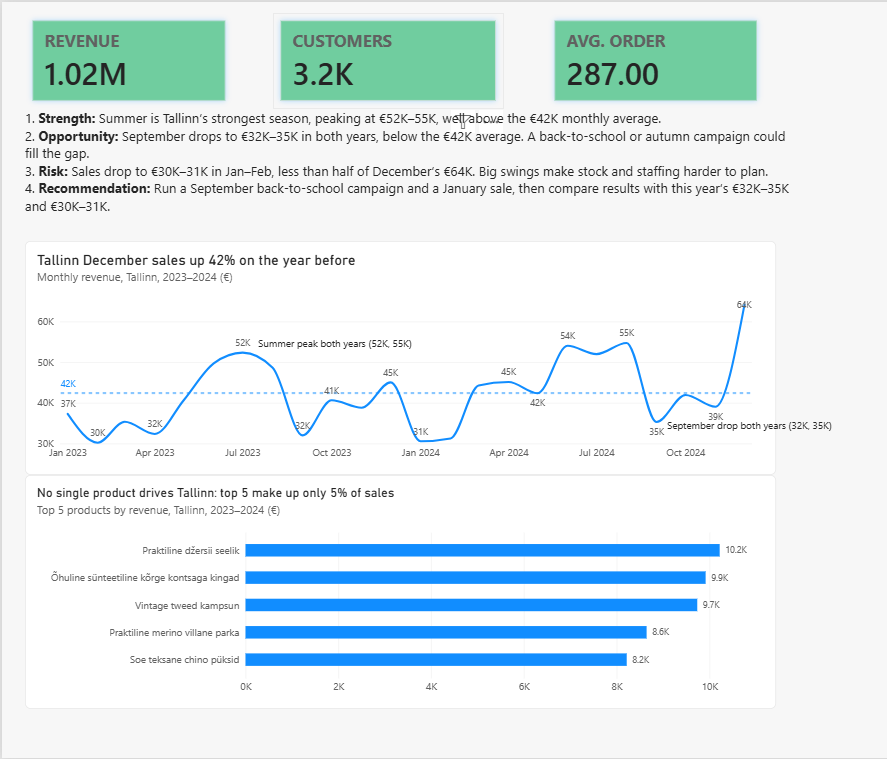

The page's visual inventory and layout, read from the dashboard file:
{"tool":"powerbi","page":{"name":"Page 1","canvas":[1920,1080],"ordinal":0},"visuals":[{"type":"barChart","title":"Sales by store","fields":{"Category":["public sales.store_location"],"Y":["Sum(public sales.total_price)"]},"box":[548,704.9,583.9,329.9],"z":0},{"type":"barChart","title":"Stock by category","fields":{"Category":["public products.category"],"Y":["Sum(public inventory.quantity_available)"]},"box":[0,704.7,531.1,329.7],"z":1000},{"type":"shape","box":[0,0,1131.9,126.4],"z":2000},{"type":"cardVisual","fields":{"Data":["Sum(public sales.total_price)"]},"box":[23.9,138.3,297.9,137],"z":3000},{"type":"cardVisual","fields":{"Data":["CountNonNull(public sales.customer_id)"]},"box":[408.3,138.3,329.9,137],"z":4000},{"type":"cardVisual","fields":{"Data":["Avg(public sales.total_price)"]},"box":[820.6,138.3,311.2,137],"z":4001},{"type":"lineChart","fields":{"Category":["public sales.sale_date.Variation.Date Hierarchy.Year","public sales.sale_date.Variation.Date Hierarchy.Quarter","public sales.sale_date.Variation.Date Hierarchy.Month","public sales.sale_date.Variation.Date Hierarchy.Day"],"Y":["Sum(public sales.total_price)"]},"box":[10.6,309.9,1121.2,333.8],"z":4002}]}

Visuals, with their boxes on the page's 1920x1080 design canvas (x1, y1, x2, y2). These are canvas units, not pixel positions in the 887x759 screenshot, which may show the page scaled, cropped or inside an application window:
"Sales by store" barChart: [548,705,1132,1035]
"Stock by category" barChart: [0,705,531,1034]
shape: [0,0,1132,126]
cardVisual - Sum(public sales.total_price): [24,138,322,275]
cardVisual - CountNonNull(public sales.customer_id): [408,138,738,275]
cardVisual - Avg(public sales.total_price): [821,138,1132,275]
lineChart - public sales.sale_date.Variation.Date Hierarchy.Year x public sales.sale_date.Variation.Date Hierarchy.Quarter: [11,310,1132,644]
